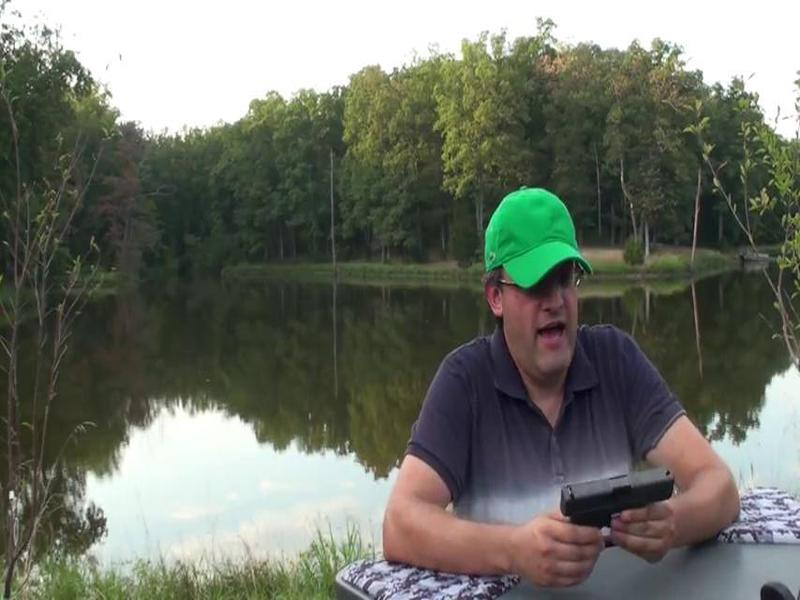Pistola: (537, 453, 682, 558)
